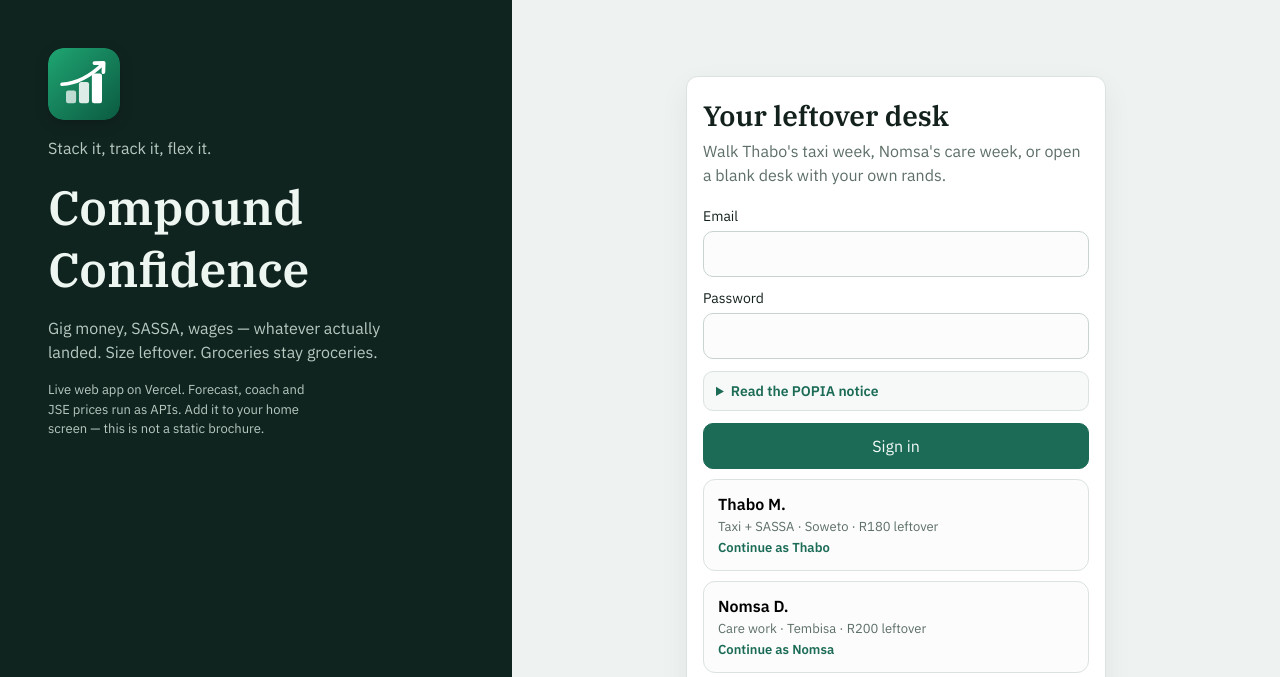
Scenario: Compound Confidence dashboard › opens the dashboard after demo login
The width and height of the screenshot is (1280, 677).
Click the button with test id "demo-login" at (896, 525), box [703,479,1089,571]
(page scrolled)
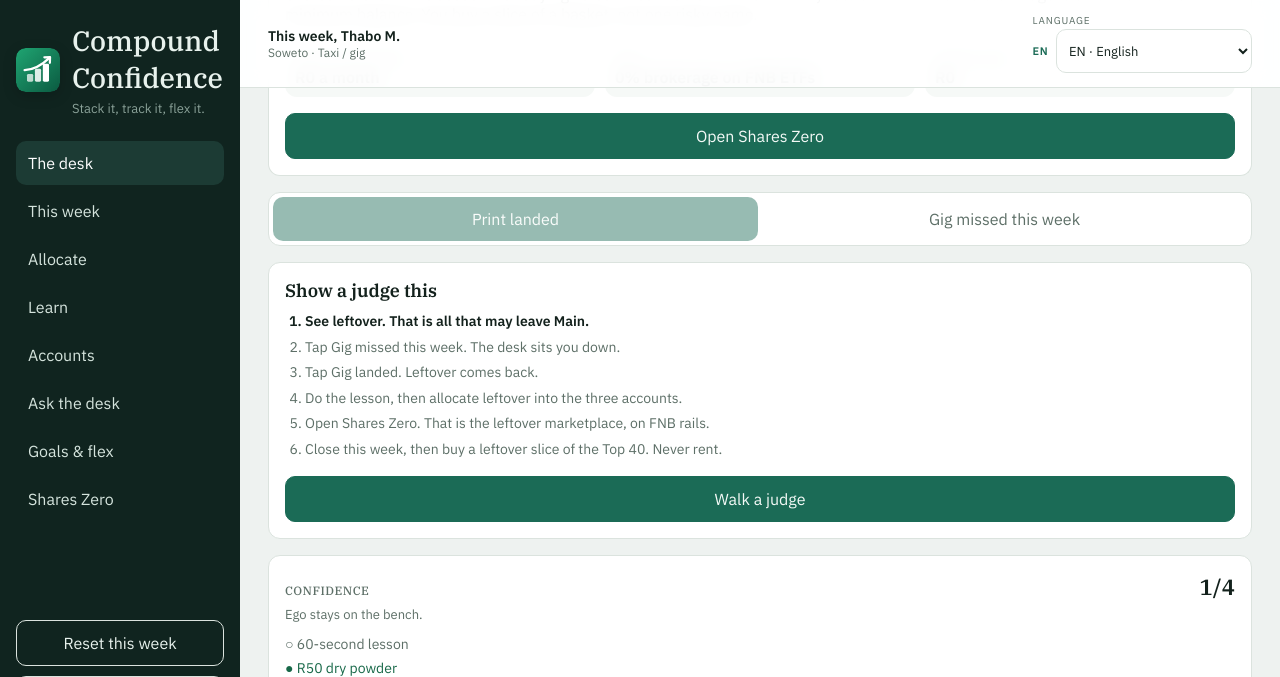
Check: the text "This week, Thabo M." is shown, box [268,27,400,45]
Check: the element with test id "judge-walk" is shown, box [268,262,1252,539]
